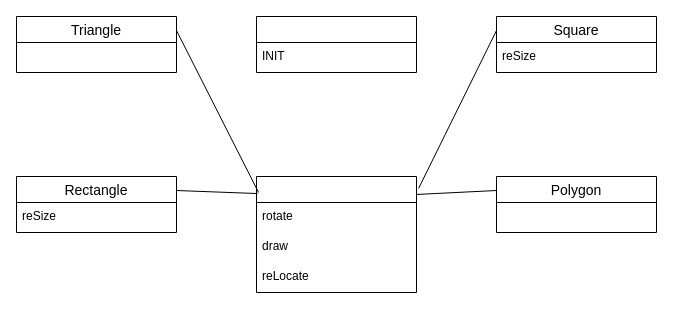
This 673x309 diagram has some shape labels left out. Each missing label, with the box of its shape:
Dots: (256, 16, 416, 72)
FigureFunctions: (256, 176, 416, 292)
